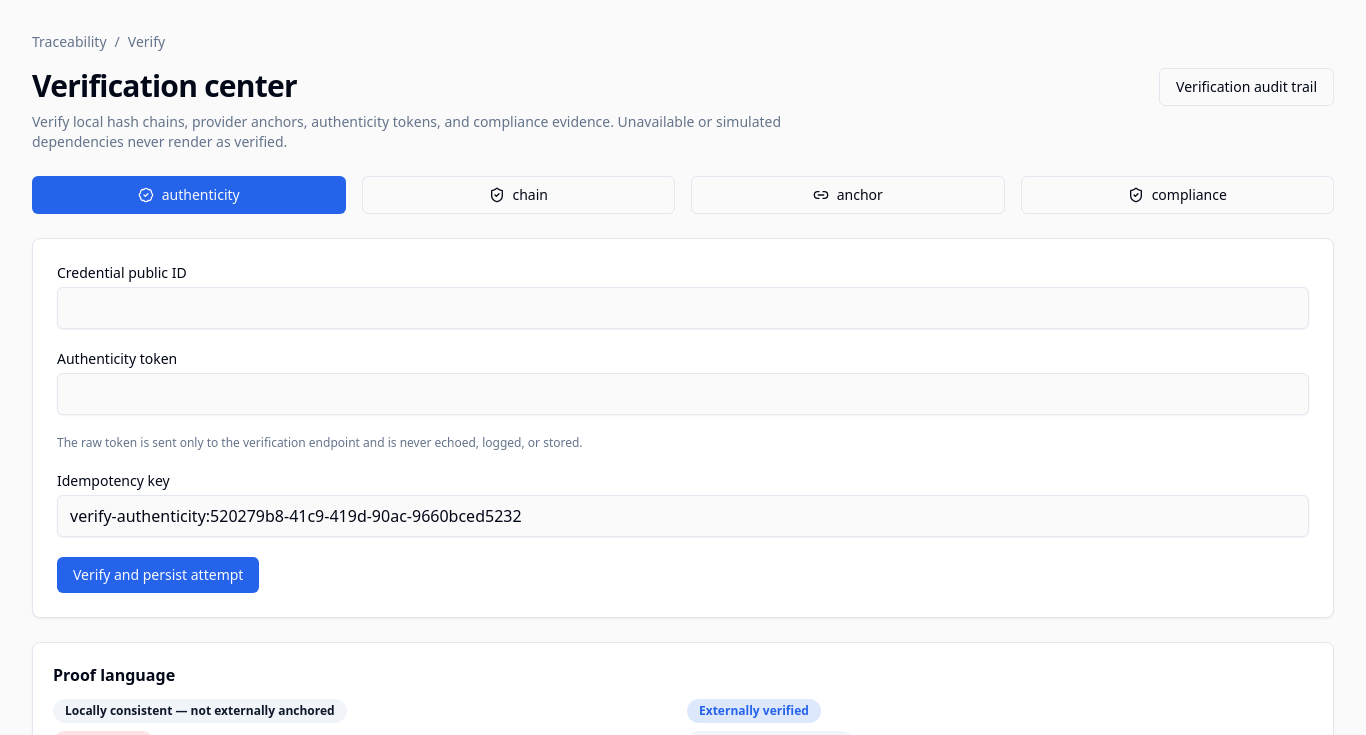
Scenario: blockchain traceability domain pages › clears stale verification success and exposes the failed dependency state
This screenshot has width=1366, height=735.
Type "public-1" into the field labelled "Credential public ID".
click(683, 308); type("public-1")  # box x1=57 y1=287 x2=1309 y2=329
Type "token-1" into the password field labelled "Authenticity token".
click(683, 394); type("token-1")  # box x1=57 y1=373 x2=1309 y2=415
Replace the text in the field labelled "Idempotency key" with "verify-authenticity:test" at (683, 516), box x1=57 y1=495 x2=1309 y2=537
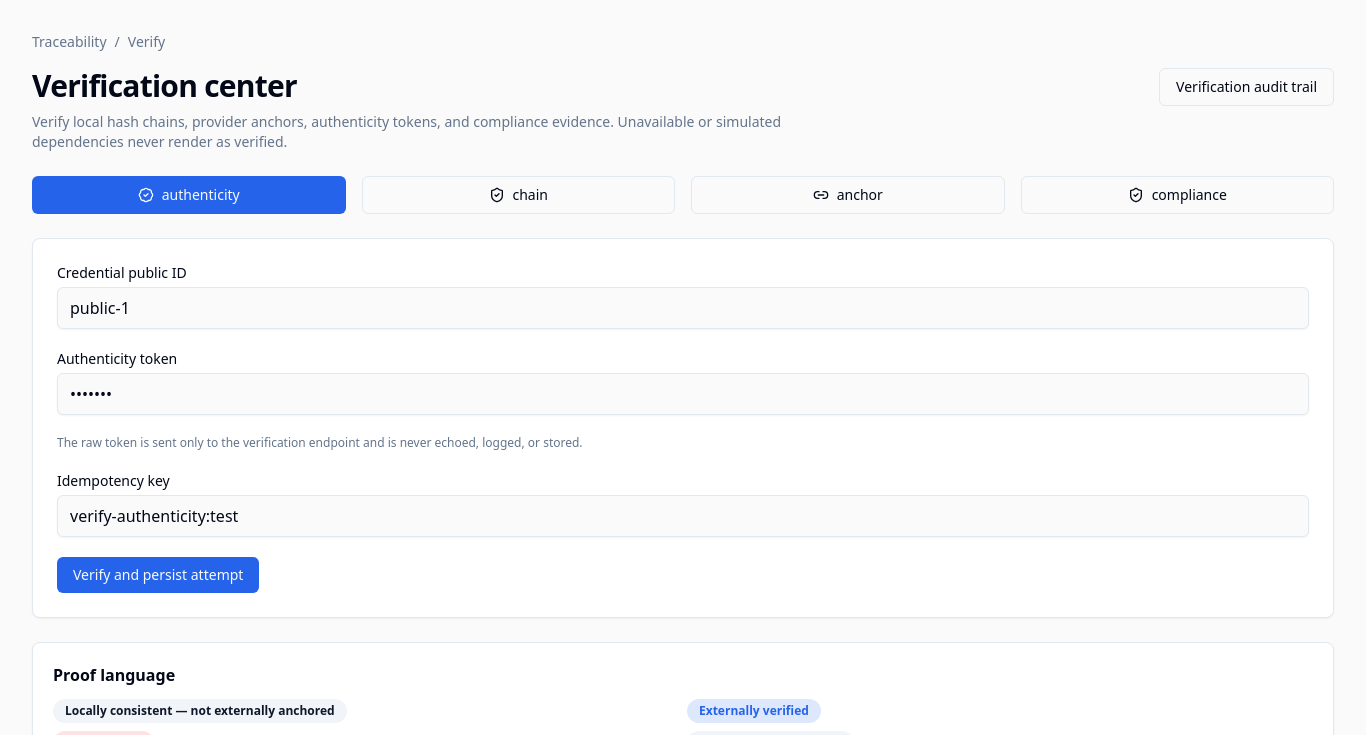
Click the button "Verify and persist attempt".
click(158, 575)  # box x1=57 y1=557 x2=259 y2=593
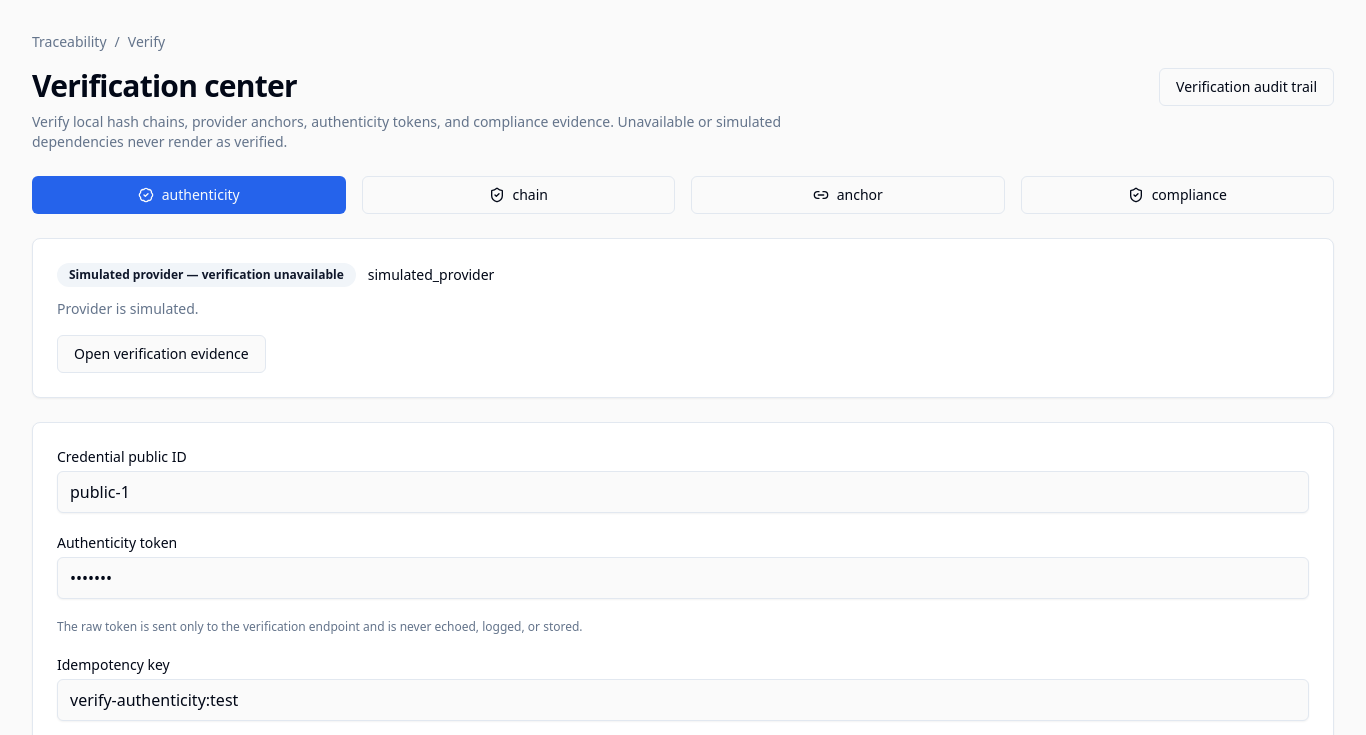
Check: the text "Provider is simulated." is shown, box x1=57 y1=299 x2=199 y2=318
Click the tab "chain".
click(518, 195)  # box x1=362 y1=176 x2=675 y2=214
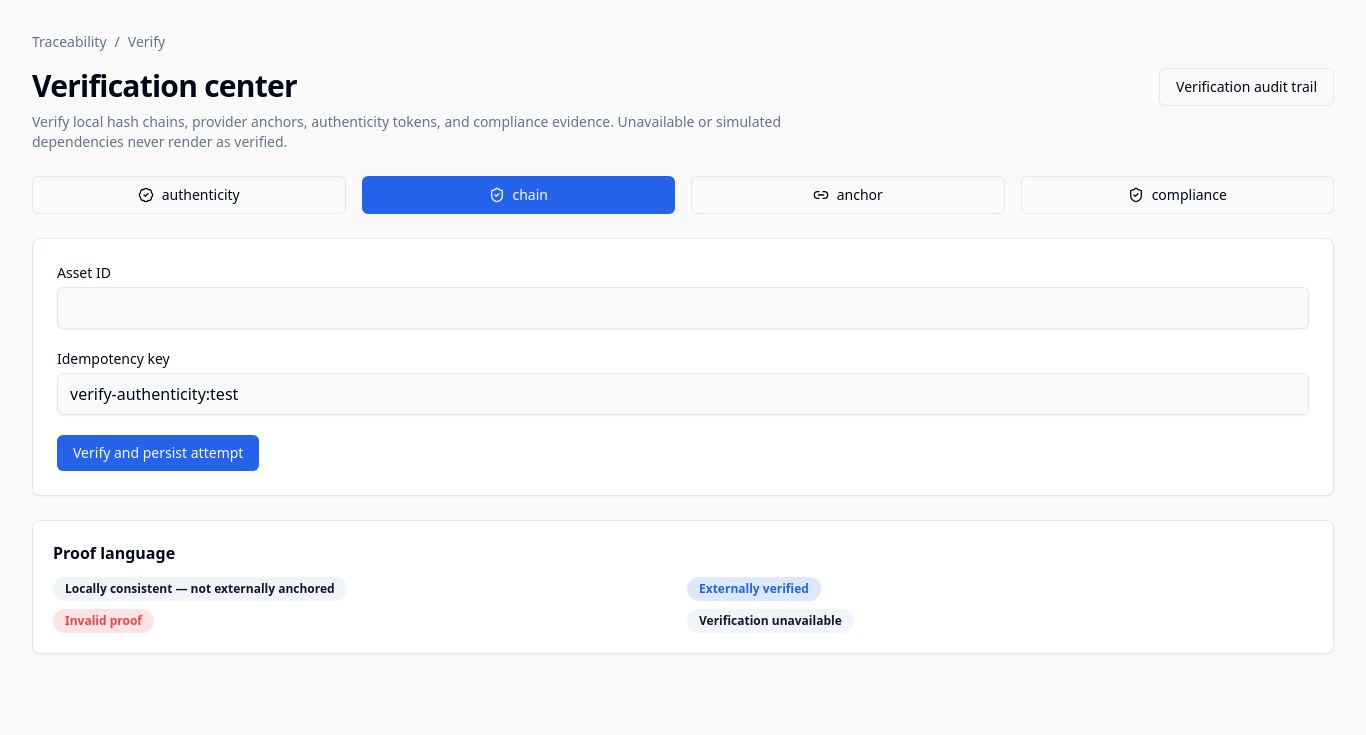
Type "asset-1" into the field labelled "Asset ID".
click(683, 308); type("asset-1")  # box x1=57 y1=287 x2=1309 y2=329
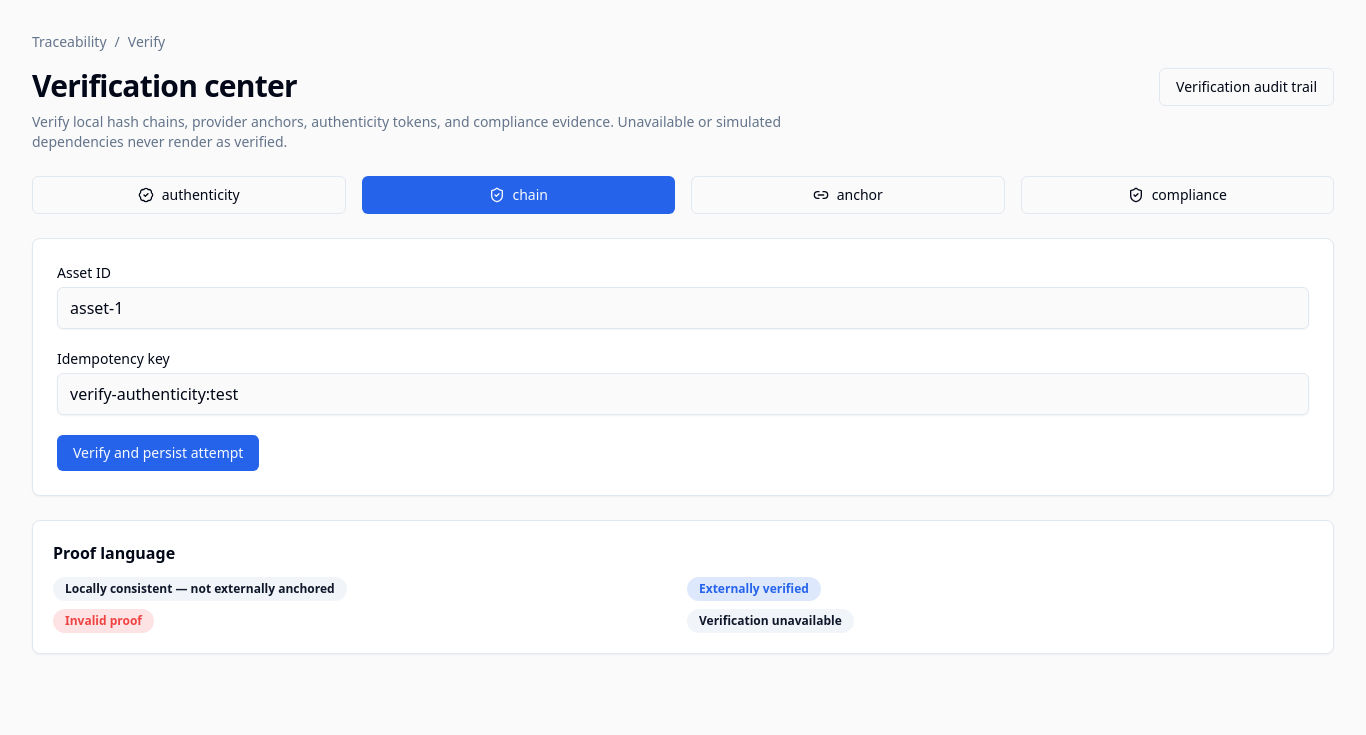
Replace the text in the field labelled "Idempotency key" with "verify-chain:test" at (683, 394), box x1=57 y1=373 x2=1309 y2=415
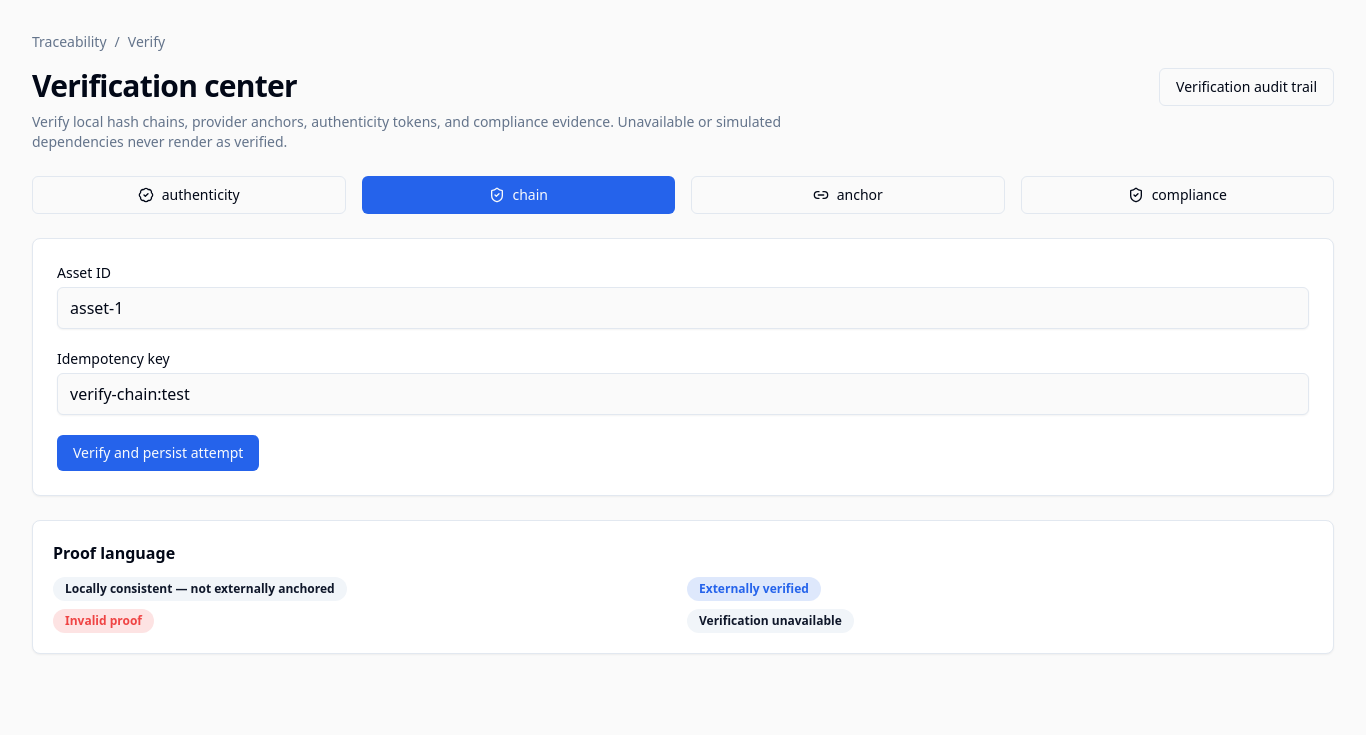
Click the button "Verify and persist attempt".
click(158, 453)  # box x1=57 y1=435 x2=259 y2=471
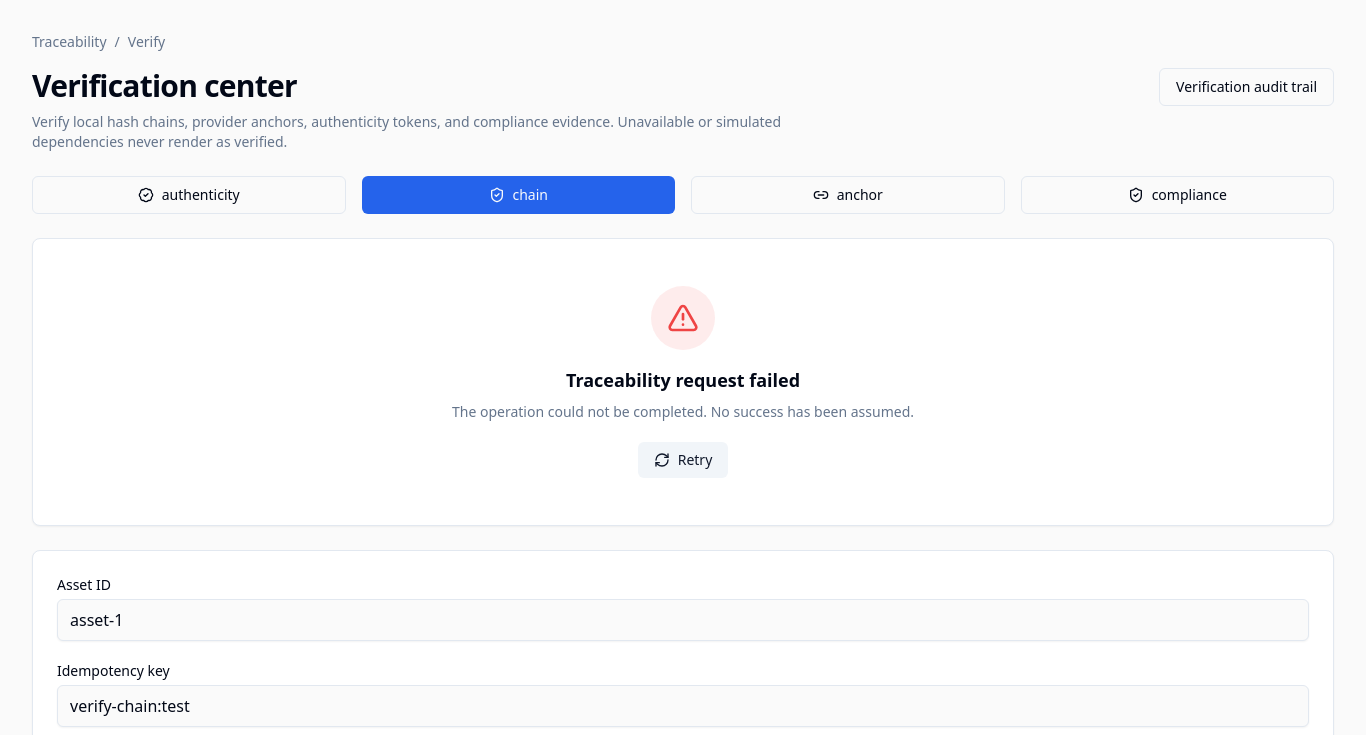
Check: the text "Provider is simulated." is not shown
Check: the heading "Traceability request failed" is shown, box x1=566 y1=366 x2=800 y2=394
